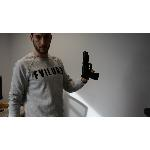Pistol: (78, 47, 102, 87)
